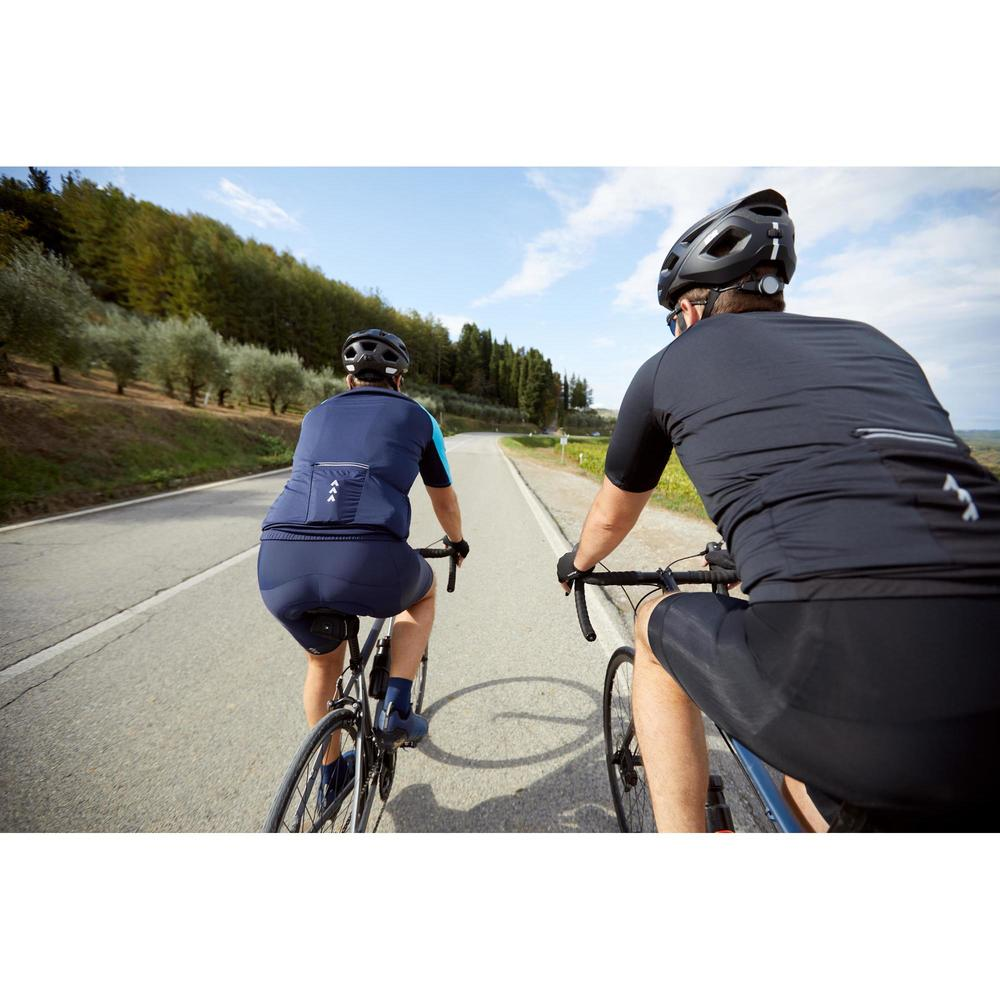RoadBike: (553, 541, 857, 830), (234, 518, 468, 851)
